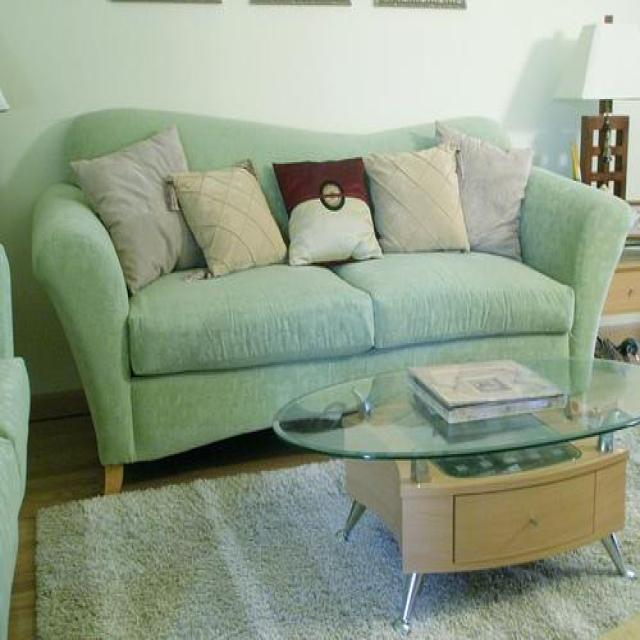sofa: (30, 107, 636, 502)
